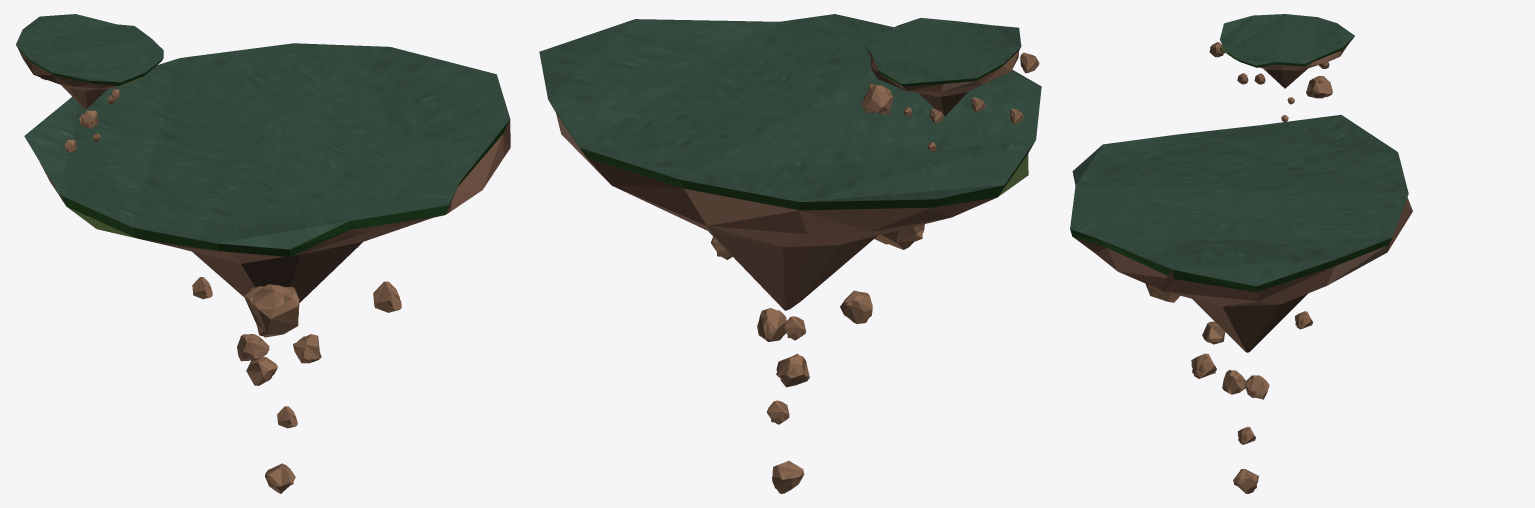
File: island.obj
The picture shows the model from 3 angles, left to right: view 1: azimuth 30°, elevation 25°; view 2: azimuth 150°, elevation 25°; view 3: azimuth 270°, elevation 25°; orthographic projection. The views are drawn at different scales.
Visible parts, largest first — view 1: Cylinder.006, Cylinder.007, rock_01.004_rock_01.011, rock_01.027, rock_01.010_rock_01.003, rock_01.013_rock_01.003, rock_01.009_rock_01.003, rock_01.014_rock_01.003; view 2: Cylinder.006, Cylinder.007, rock_01.009_rock_01.003, rock_01.027, rock_01.013_rock_01.003, rock_01.014_rock_01.003, rock_01.012_rock_01.003, rock_01.004_rock_01.011; view 3: Cylinder.006, Cylinder.007.
Part boxes in pixels (x1=…): Cylinder.006: x1=24, y1=43, x2=510, y2=302; Cylinder.007: x1=16, y1=14, x2=163, y2=108; rock_01.004_rock_01.011: x1=244, y1=284, x2=299, y2=337; rock_01.027: x1=237, y1=334, x2=269, y2=361; rock_01.010_rock_01.003: x1=373, y1=281, x2=401, y2=312; rock_01.013_rock_01.003: x1=293, y1=334, x2=321, y2=363; rock_01.009_rock_01.003: x1=246, y1=356, x2=277, y2=385; rock_01.014_rock_01.003: x1=265, y1=463, x2=295, y2=493; Cylinder.006: x1=539, y1=14, x2=1041, y2=310; Cylinder.007: x1=865, y1=18, x2=1021, y2=116; rock_01.009_rock_01.003: x1=776, y1=353, x2=809, y2=387; rock_01.027: x1=840, y1=290, x2=872, y2=324; rock_01.013_rock_01.003: x1=757, y1=308, x2=786, y2=341; rock_01.014_rock_01.003: x1=772, y1=461, x2=804, y2=493; rock_01.012_rock_01.003: x1=861, y1=84, x2=893, y2=114; rock_01.004_rock_01.011: x1=874, y1=224, x2=924, y2=249; Cylinder.006: x1=1070, y1=115, x2=1412, y2=352; Cylinder.007: x1=1220, y1=14, x2=1354, y2=88.
Bounding box in the file's own units: 21.43 × 21.49 × 22.56.
20 materials, 20 textured.
